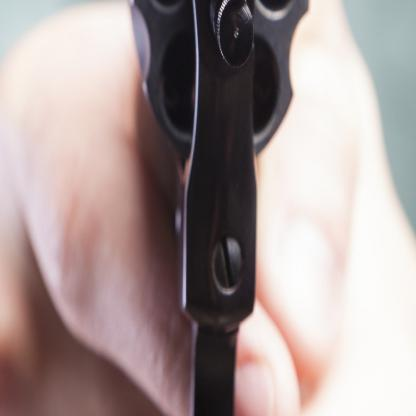gun: (117, 0, 337, 415)
